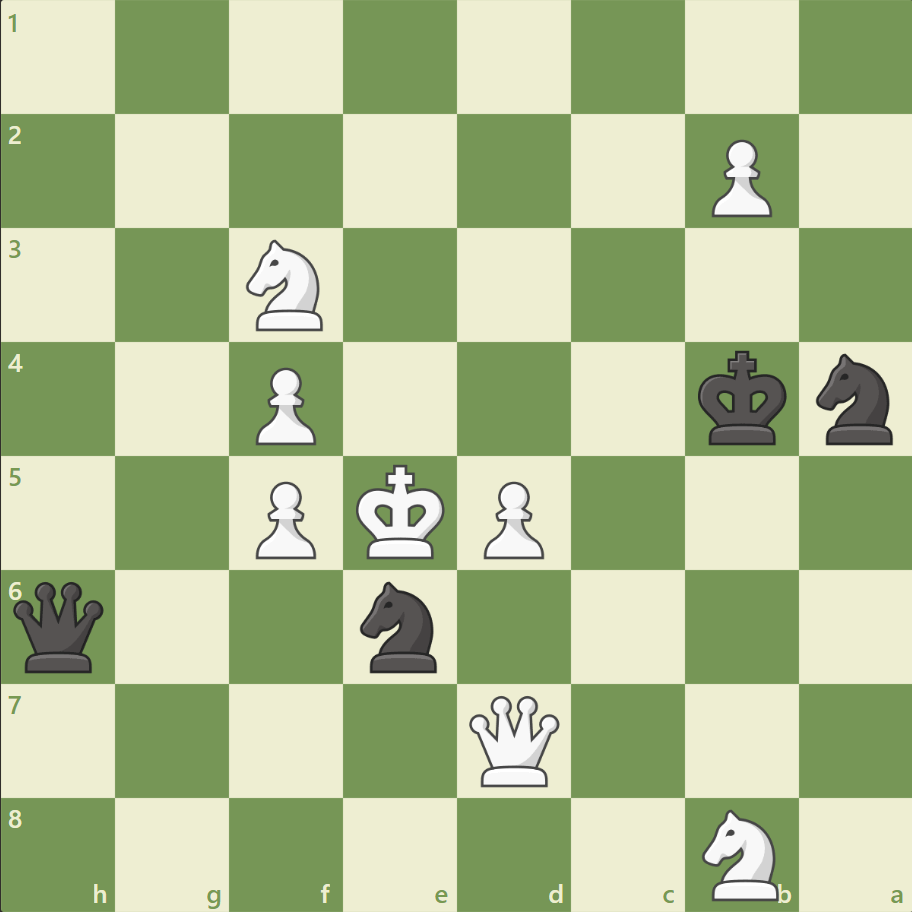K: (351, 458, 451, 566)
N: (238, 234, 335, 337), (692, 802, 789, 904)
P: (474, 473, 549, 564), (247, 473, 322, 564), (247, 359, 322, 450), (701, 132, 776, 223)
Q: (464, 690, 563, 789)
k: (692, 344, 792, 452)
n: (351, 575, 449, 677), (806, 348, 903, 450)
q: (10, 576, 109, 676)
